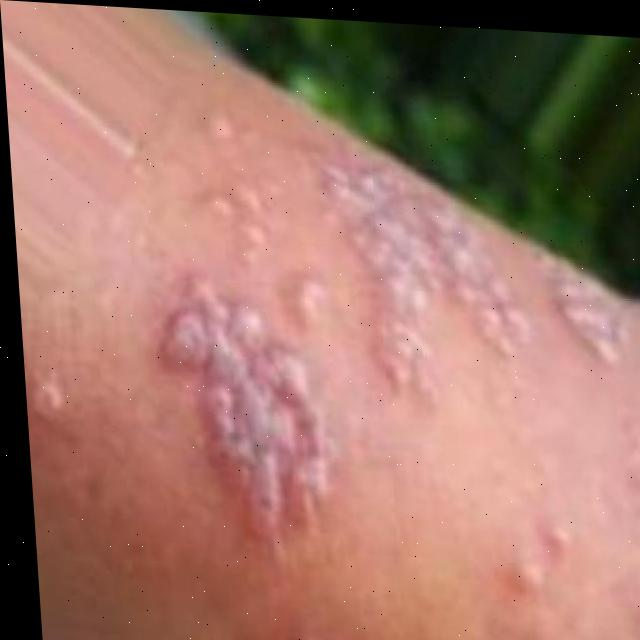Shingles: (158, 165, 640, 571), (25, 375, 75, 425), (284, 631, 386, 640)
